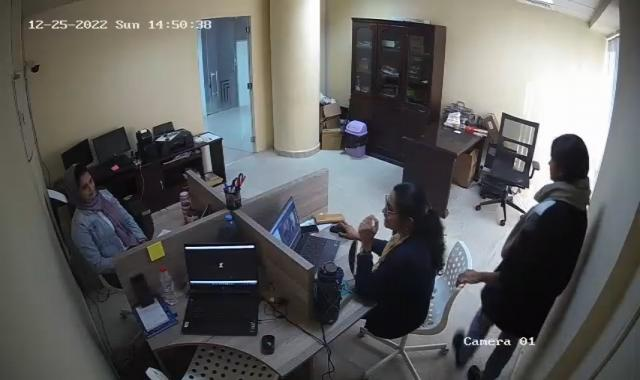no_hairnet: (550, 134, 587, 184), (384, 185, 424, 231), (60, 164, 96, 202)
